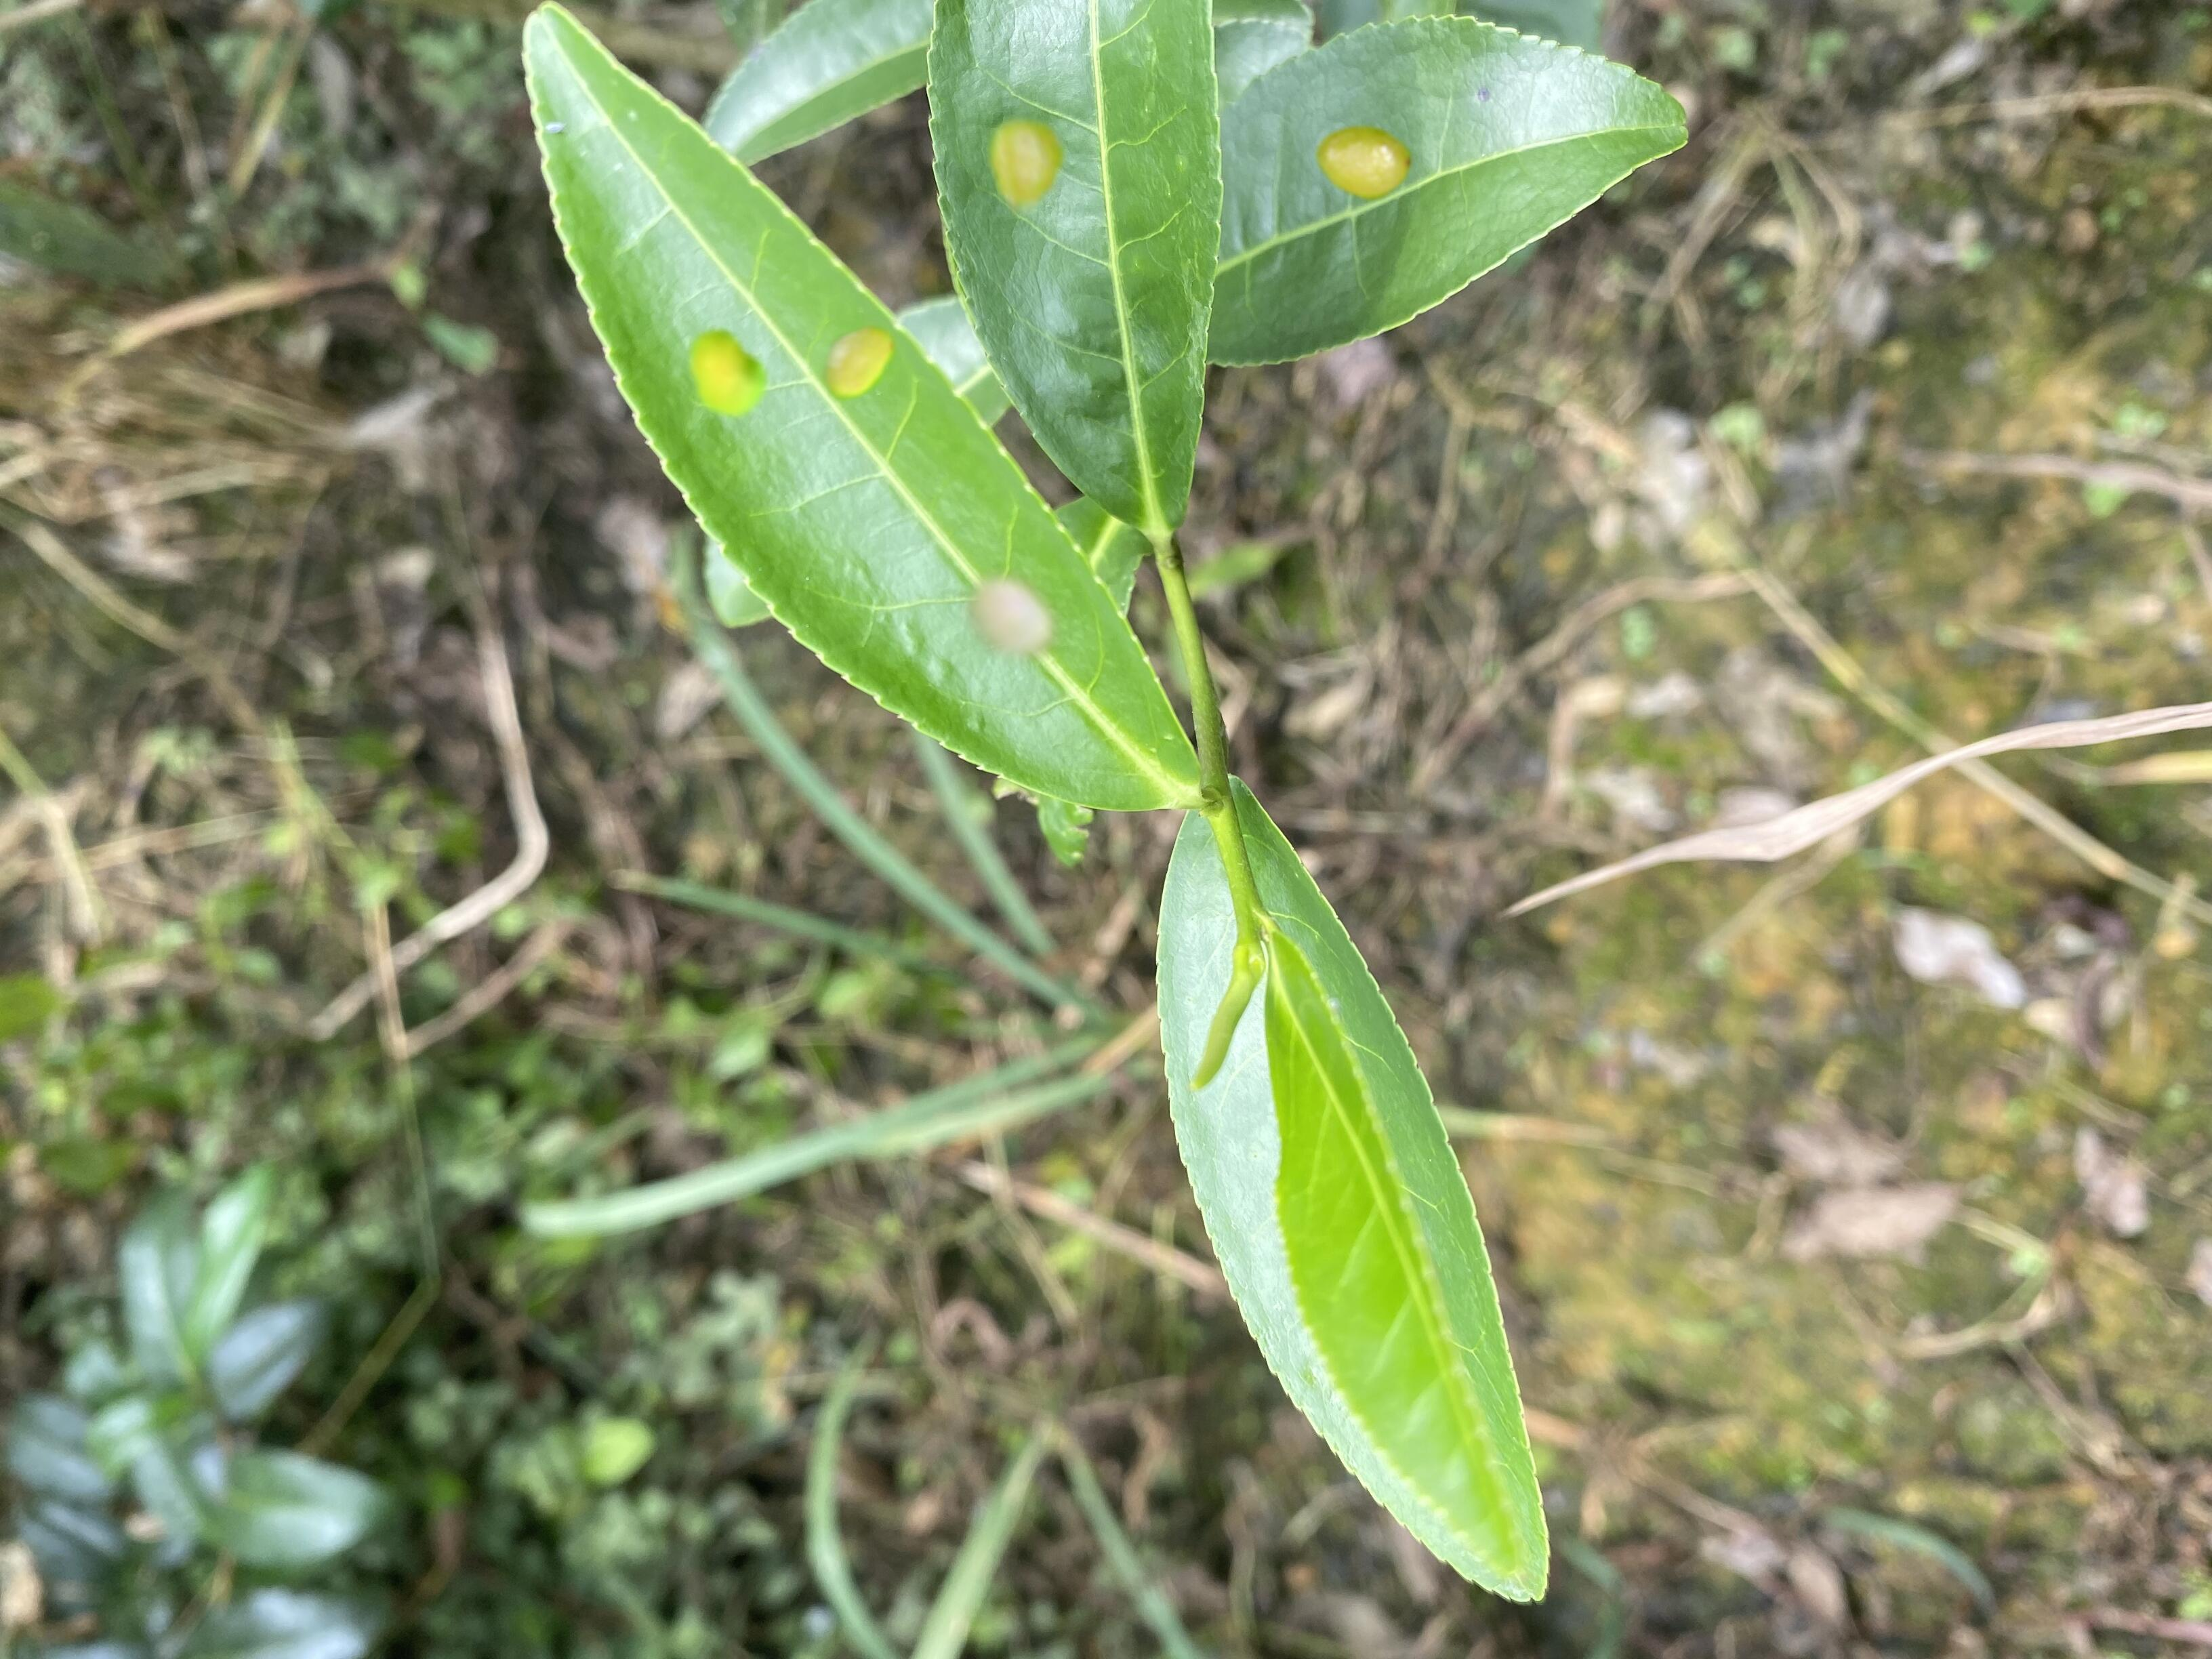chabing_high: (523, 2, 1204, 814)
chabing_low: (1207, 14, 1689, 368), (927, 5, 1228, 544)
healthy: (1151, 774, 1555, 1607), (1261, 931, 1524, 1574)
